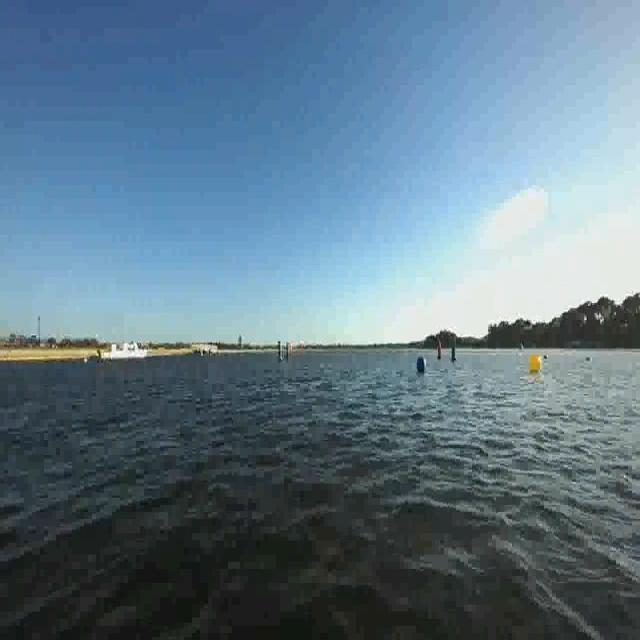blue-buoy: (416, 353, 427, 373)
green-column-buoy: (450, 340, 458, 362)
red-column-buoy: (436, 340, 442, 362)
yellow-buoy: (532, 352, 544, 372)
